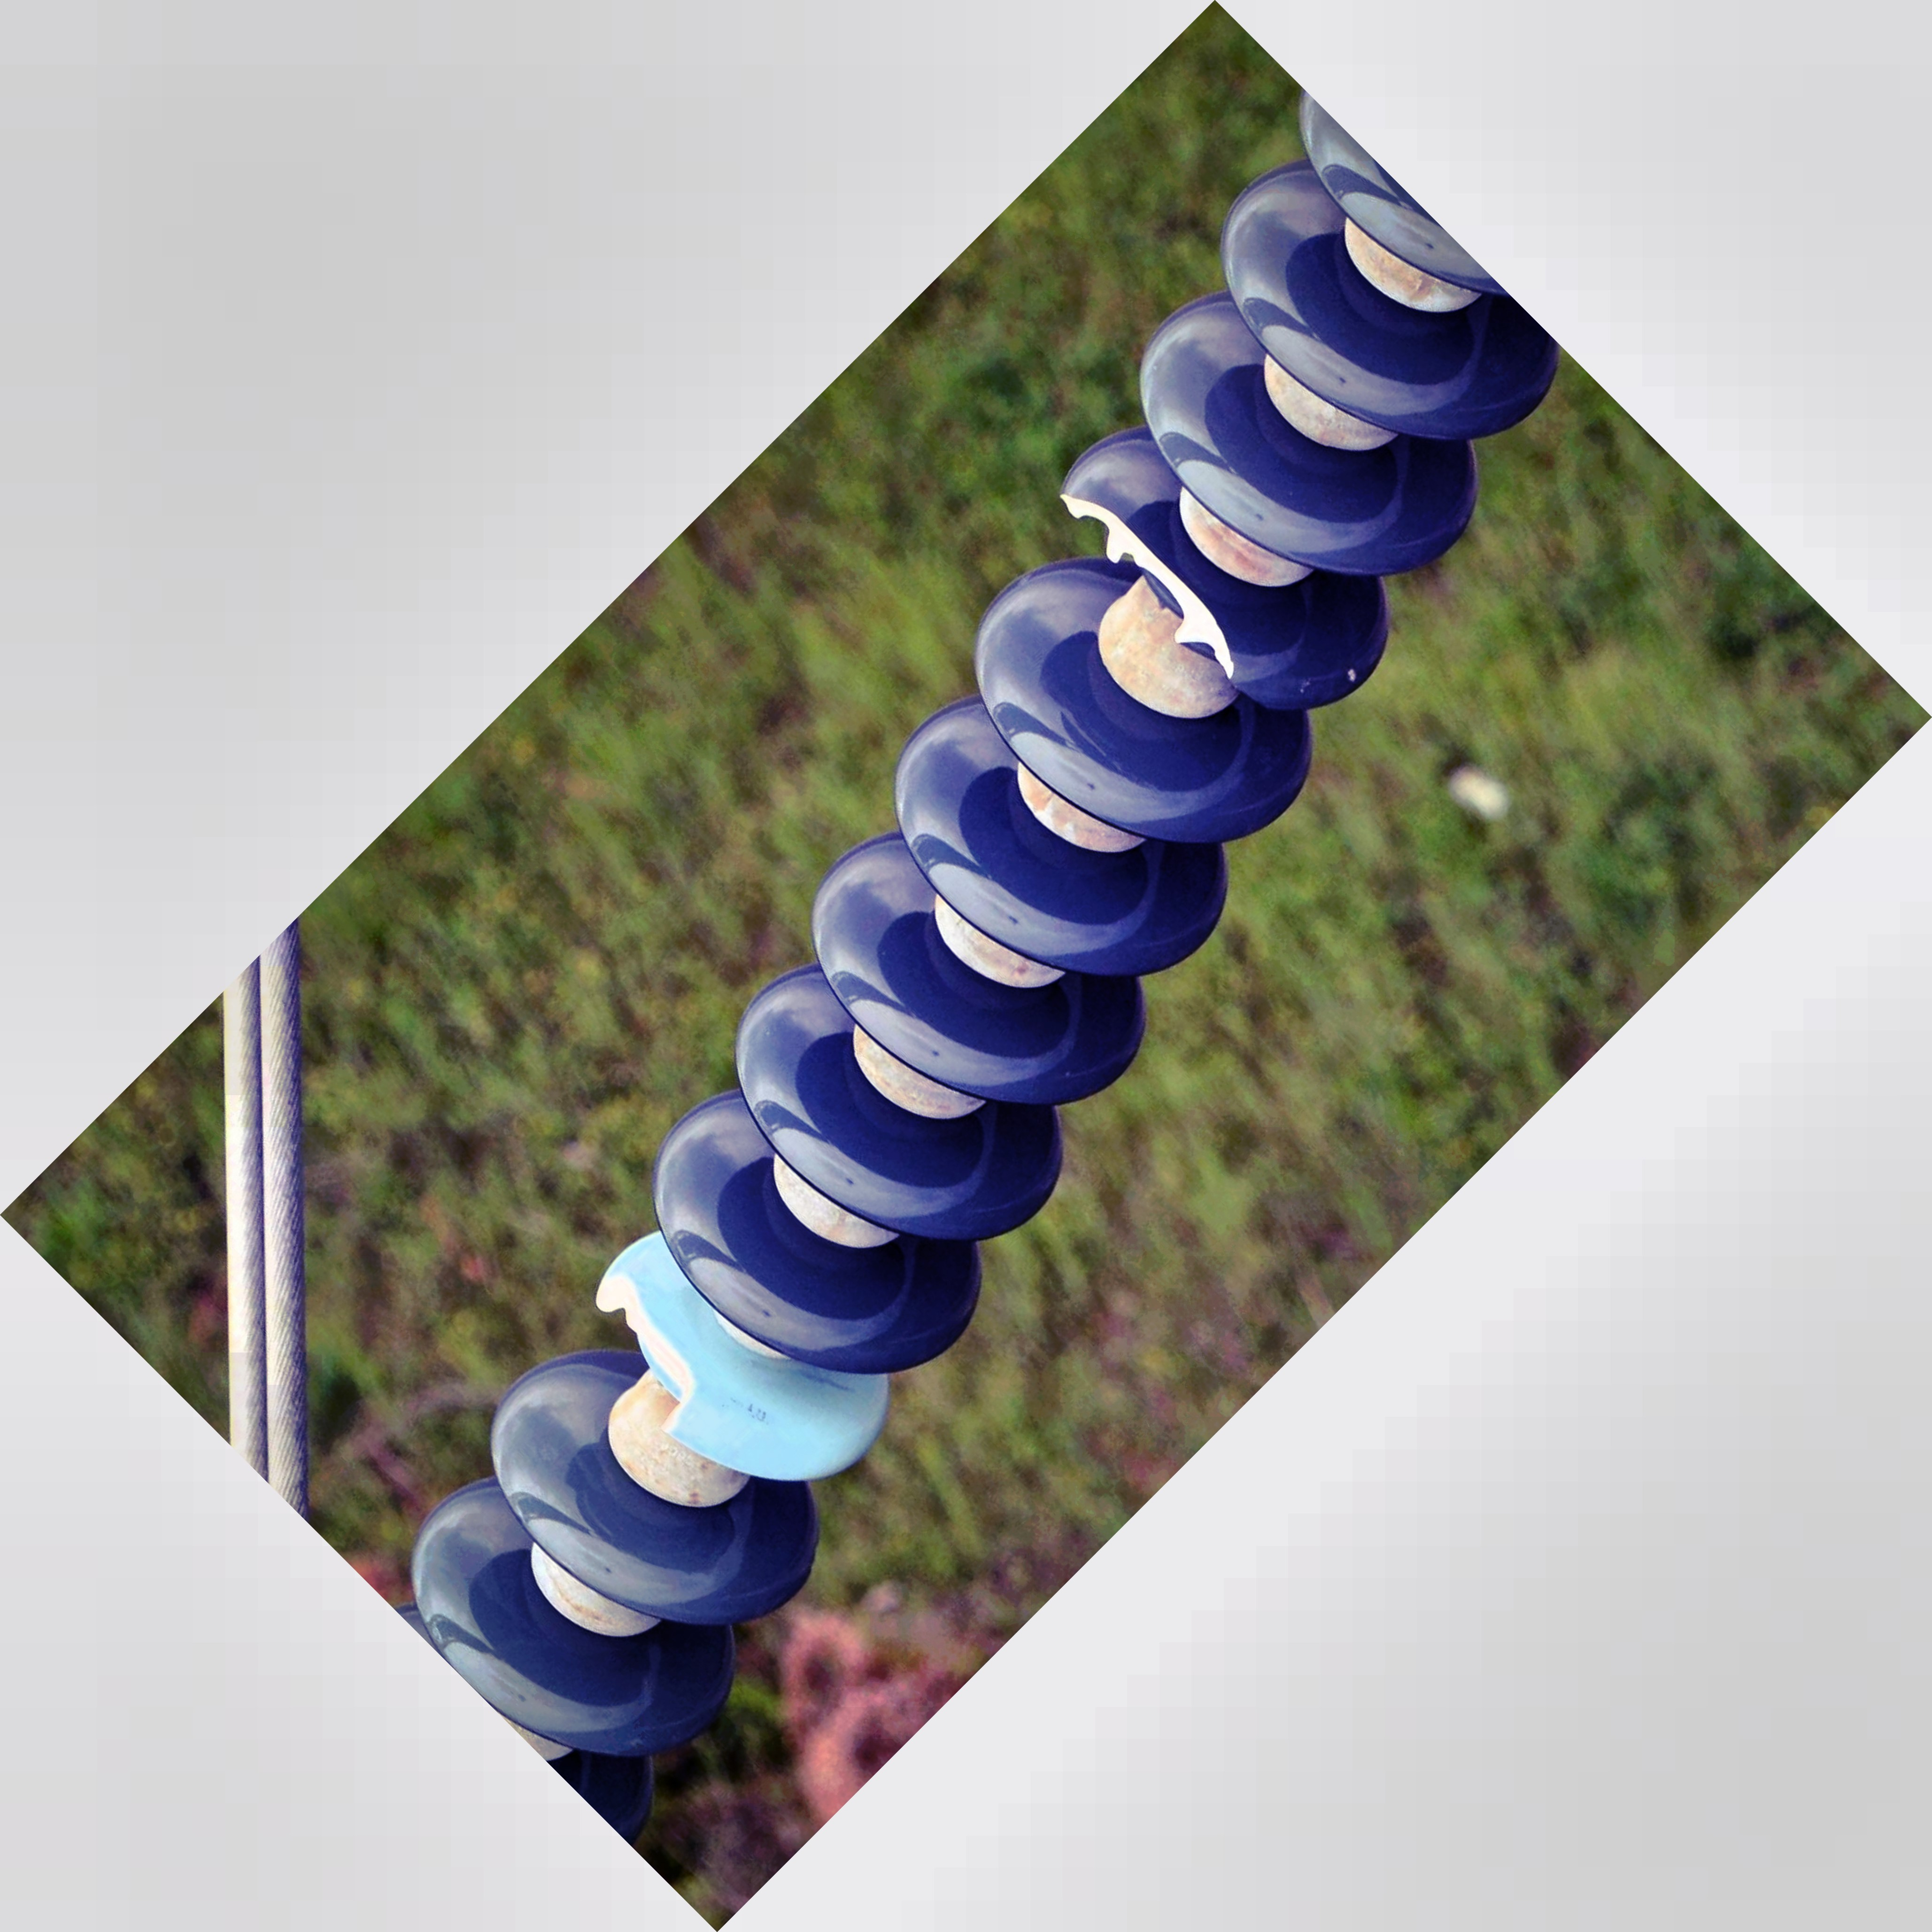insulator breakage: (1033, 437, 1387, 708), (566, 1235, 904, 1514)
